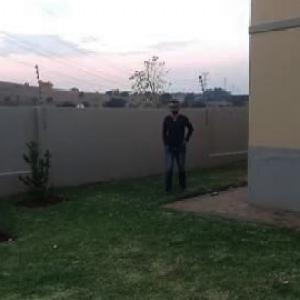follow: (161, 96, 196, 196)
